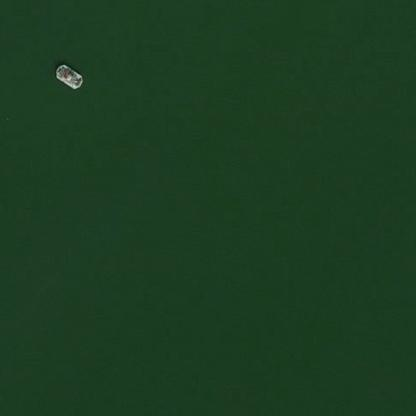ship: (52, 62, 84, 91)
